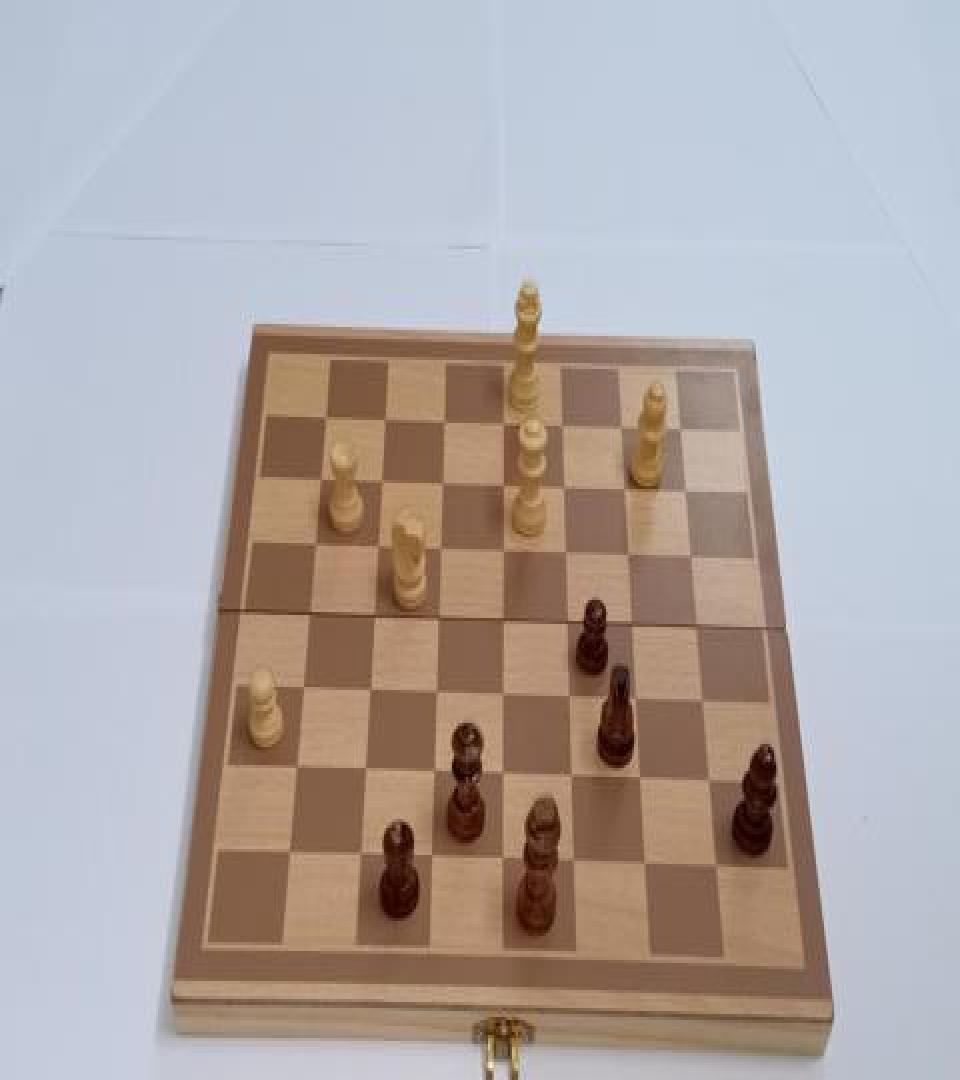xcorner: (433, 466, 451, 494), (494, 406, 512, 434), (496, 760, 514, 788), (555, 472, 573, 500), (612, 412, 630, 440), (315, 399, 333, 426), (310, 462, 328, 489), (304, 528, 322, 555), (299, 598, 317, 625), (287, 753, 305, 780), (280, 838, 298, 865), (374, 402, 392, 429), (364, 600, 382, 627), (361, 675, 379, 702), (356, 756, 374, 783), (434, 404, 452, 431), (431, 532, 449, 559), (430, 603, 448, 630), (428, 678, 446, 705), (424, 843, 442, 870), (494, 470, 512, 497), (495, 606, 513, 633), (495, 681, 513, 708), (496, 846, 514, 873), (558, 538, 576, 565), (560, 609, 578, 636), (562, 684, 580, 711), (568, 849, 586, 876), (616, 474, 634, 501), (620, 540, 638, 567), (625, 610, 643, 637), (634, 766, 652, 793), (640, 852, 658, 879), (672, 414, 690, 441), (677, 477, 695, 504), (683, 543, 701, 570), (696, 689, 714, 716), (703, 768, 721, 795), (293, 674, 311, 700), (371, 464, 389, 490), (368, 530, 386, 556), (352, 842, 370, 868), (426, 758, 444, 784), (494, 536, 512, 562), (553, 410, 571, 436), (565, 764, 583, 790), (629, 686, 647, 712), (690, 614, 708, 640), (711, 854, 729, 880)
